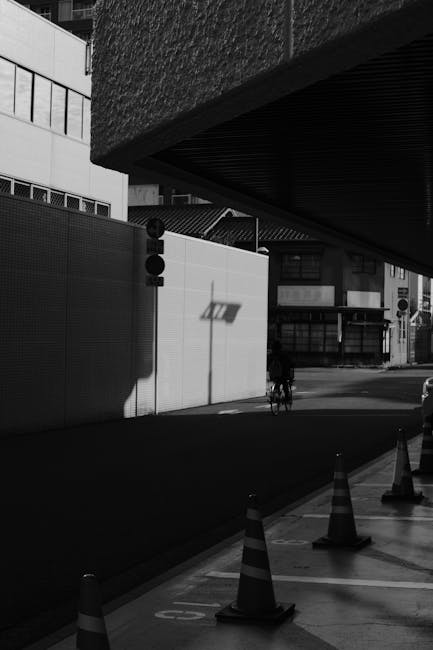traffic_cone: (214, 492, 296, 626), (311, 450, 372, 552), (380, 426, 426, 505), (75, 573, 111, 649), (411, 414, 432, 476)
